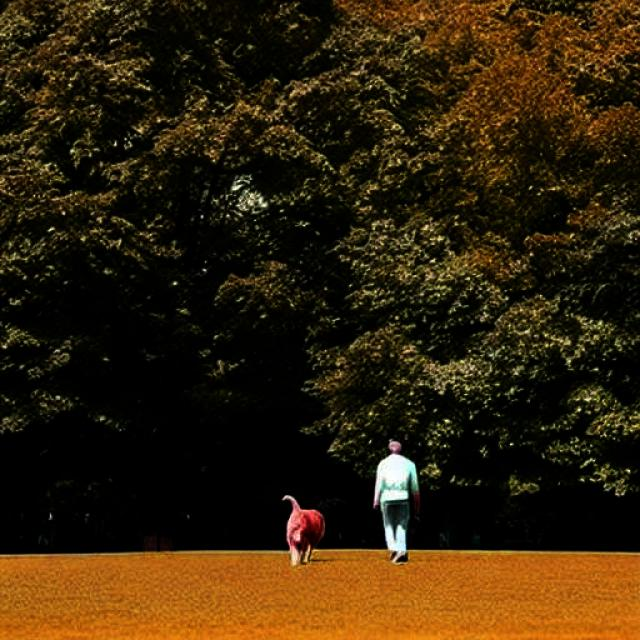Unleashed_Dog: (279, 494, 410, 568)
